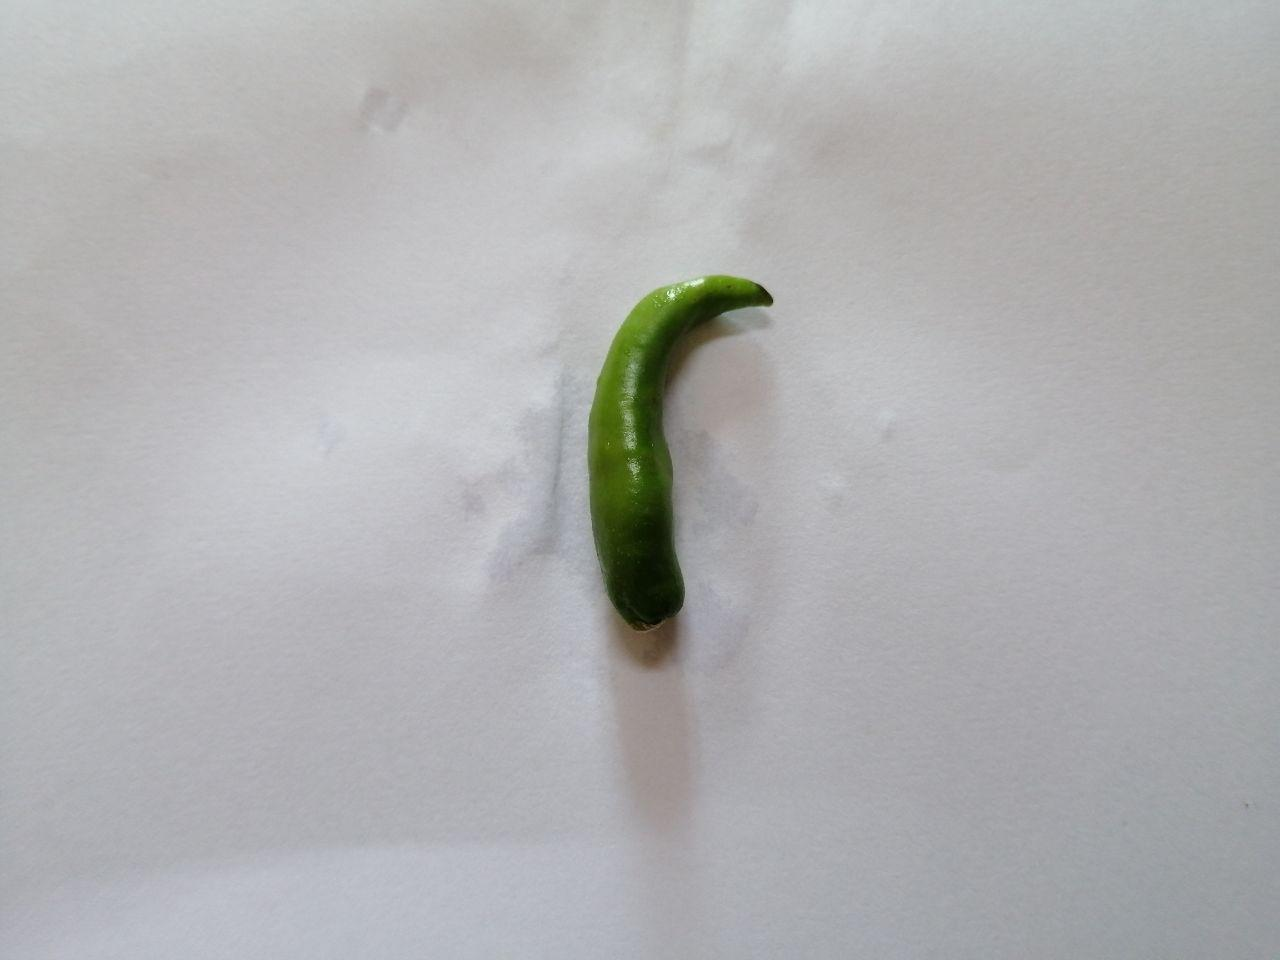lada hijau: (565, 261, 787, 644)
